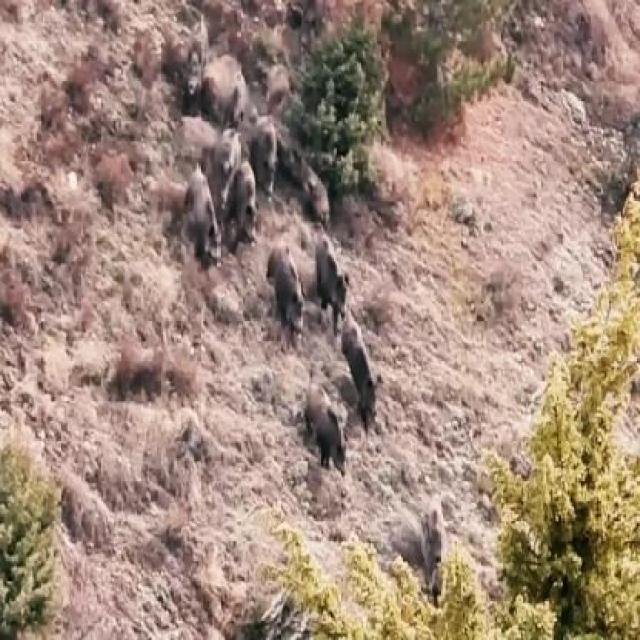Boar: (336, 302, 392, 440), (298, 350, 349, 482), (178, 155, 222, 274), (272, 217, 306, 352), (277, 143, 331, 225), (238, 108, 282, 208), (308, 226, 352, 325), (209, 122, 243, 224), (235, 136, 260, 256), (179, 24, 206, 121)
